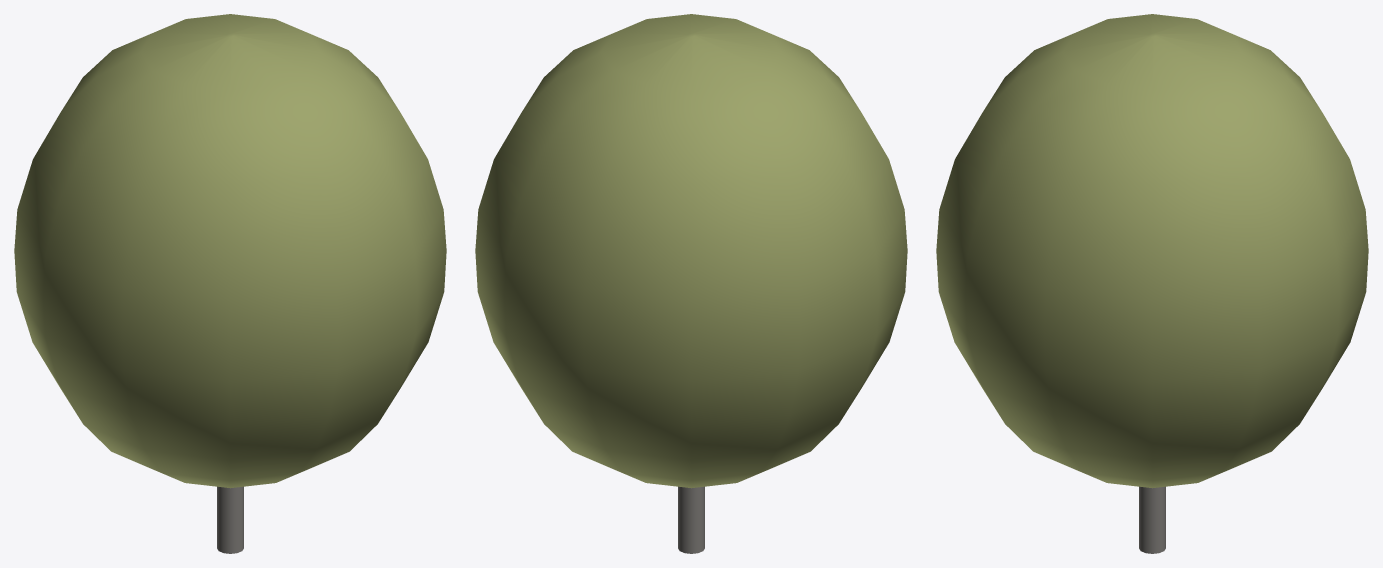
File: Southern_Magnolia_Analytical_0.obj
The picture shows the model from 3 angles, left to right: view 1: azimuth 30°, elevation 25°; view 2: azimuth 150°, elevation 25°; view 3: azimuth 270°, elevation 25°; orthographic projection.
Visible parts, largest first — view 1: AnalyticalCrown, AnalyticalTrunk; view 2: AnalyticalCrown, AnalyticalTrunk; view 3: AnalyticalCrown, AnalyticalTrunk.
Part boxes in pixels (box(x1,y1,x2,y2)): AnalyticalCrown: box(14, 14, 446, 488); AnalyticalTrunk: box(217, 486, 243, 553); AnalyticalCrown: box(475, 14, 907, 488); AnalyticalTrunk: box(678, 486, 704, 553); AnalyticalCrown: box(936, 14, 1368, 488); AnalyticalTrunk: box(1139, 486, 1165, 553).
Bounding box in the file's own units: 15.28 × 20 × 15.28.
